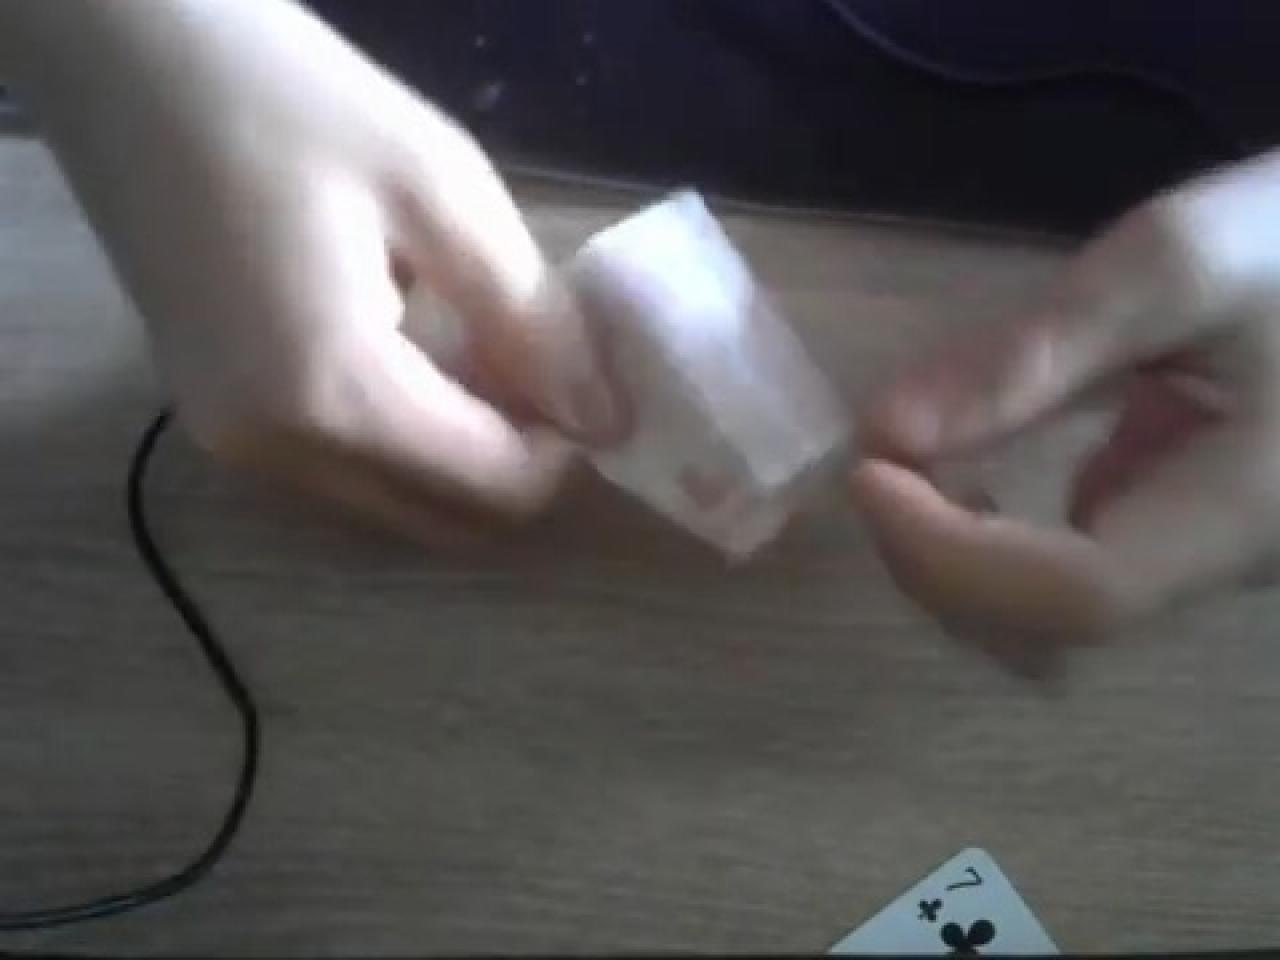5leva: (549, 190, 854, 568)
